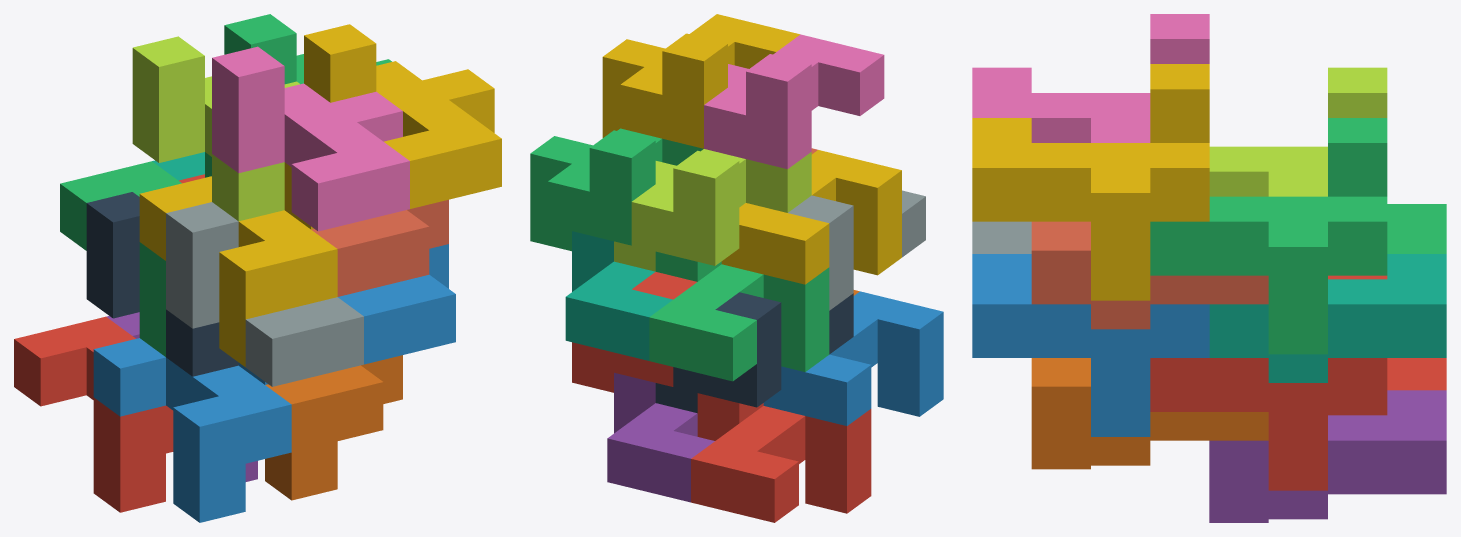
Rendered from tiling.obj.
3 renders of one model, left to right at view 1: azimuth 30°, elevation 25°; view 2: azimuth 150°, elevation 25°; view 3: azimuth 270°, elevation 25°, orthographic. The views are drawn at different scales.
Visible parts, largest first — view 1: copy_2_domain_4, copy_1_domain_2, copy_2_domain_8, copy_2_domain_2, copy_1_domain_4, copy_1_domain_1, copy_2_domain_3, copy_1_domain_6, copy_2_domain_1, copy_1_domain_8, copy_2_domain_6, copy_1_domain_3 (+3 smaller); view 2: copy_1_domain_1, copy_2_domain_4, copy_1_domain_3, copy_1_domain_2, copy_2_domain_3, copy_2_domain_8, copy_1_domain_4, copy_2_domain_7, copy_1_domain_5, copy_1_domain_7, copy_2_domain_1, copy_2_domain_2 (+1 smaller); view 3: copy_2_domain_8, copy_2_domain_7, copy_2_domain_6, copy_1_domain_5, copy_2_domain_5, copy_1_domain_7, copy_2_domain_4, copy_1_domain_6, copy_1_domain_8, copy_2_domain_3, copy_1_domain_3, copy_1_domain_1 (+1 smaller).
Boxes of the visible parts, x1,y1,x2,y2 form: copy_2_domain_4: (212,46,409,231); copy_1_domain_2: (93,338,291,522); copy_2_domain_8: (304,24,501,208); copy_2_domain_2: (166,202,363,386); copy_1_domain_4: (139,162,337,367); copy_1_domain_1: (14,316,173,512); copy_2_domain_3: (132,36,299,221); copy_1_domain_6: (265,355,402,500); copy_2_domain_1: (86,192,238,376); copy_1_domain_8: (311,199,448,296); copy_2_domain_6: (338,244,455,364); copy_1_domain_3: (60,152,211,356); copy_1_domain_1: (691,393,871,522); copy_2_domain_4: (704,34,884,168); copy_1_domain_3: (649,251,829,381); copy_1_domain_2: (763,291,943,425); copy_2_domain_3: (614,149,811,271); copy_2_domain_8: (602,14,799,148); copy_1_domain_4: (721,150,901,284); copy_2_domain_7: (530,128,703,251); copy_1_domain_5: (607,372,714,502); copy_1_domain_7: (565,231,672,360); copy_2_domain_1: (655,292,853,413); copy_2_domain_2: (788,190,925,310); copy_2_domain_8: (972,64,1209,300); copy_2_domain_7: (1150,118,1387,354); copy_2_domain_6: (972,254,1209,436); copy_1_domain_5: (1209,390,1446,522); copy_2_domain_5: (1150,275,1387,490); copy_1_domain_7: (1209,254,1446,382); copy_2_domain_4: (972,14,1209,142); copy_1_domain_6: (1031,358,1268,469); copy_1_domain_8: (1031,221,1268,329); copy_2_domain_3: (1209,67,1387,196); copy_1_domain_3: (1387,204,1446,253); copy_1_domain_1: (1328,358,1446,415).
Bounding box in the file's own units: 7 × 9 × 8.
